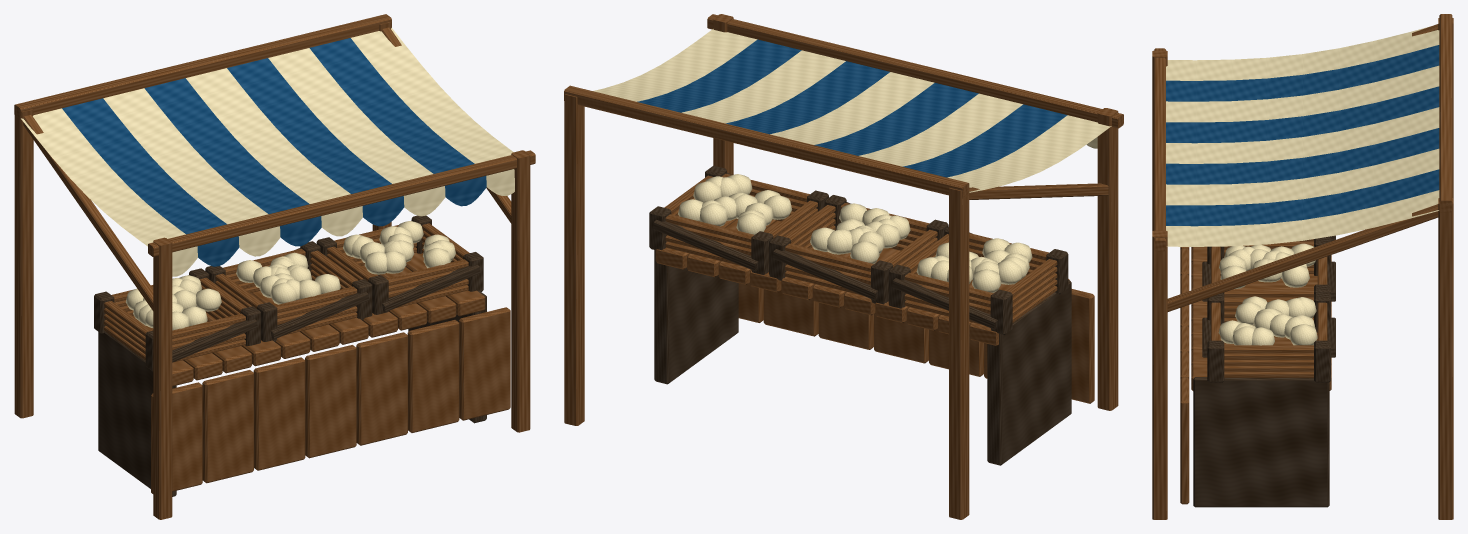
Rendered from market_bread.glb.
3 renders of one model, left to right at view 1: azimuth 30°, elevation 25°; view 2: azimuth 150°, elevation 25°; view 3: azimuth 270°, elevation 25°, orthographic. The views are drawn at different scales.
Parts seen in each view (by area): view 1: market_bread_Joinery.001, market_bread_Cloth.001, market_bread_Goods.001; view 2: market_bread_Joinery.001, market_bread_Cloth.001, market_bread_Goods.001; view 3: market_bread_Cloth.001, market_bread_Joinery.001, market_bread_Goods.001.
Part boxes in pixels (x1=…): market_bread_Joinery.001: x1=14, y1=14, x2=535, y2=519; market_bread_Cloth.001: x1=21, y1=28, x2=514, y2=276; market_bread_Goods.001: x1=126, y1=221, x2=455, y2=330; market_bread_Joinery.001: x1=564, y1=14, x2=1123, y2=519; market_bread_Cloth.001: x1=593, y1=29, x2=1111, y2=192; market_bread_Goods.001: x1=678, y1=174, x2=1032, y2=292; market_bread_Cloth.001: x1=1166, y1=26, x2=1439, y2=246; market_bread_Joinery.001: x1=1152, y1=14, x2=1453, y2=519; market_bread_Goods.001: x1=1218, y1=243, x2=1317, y2=345.
Size of the model in its own units: 3.5 by 2.71 by 2.32.
1 material, 1 textured.
